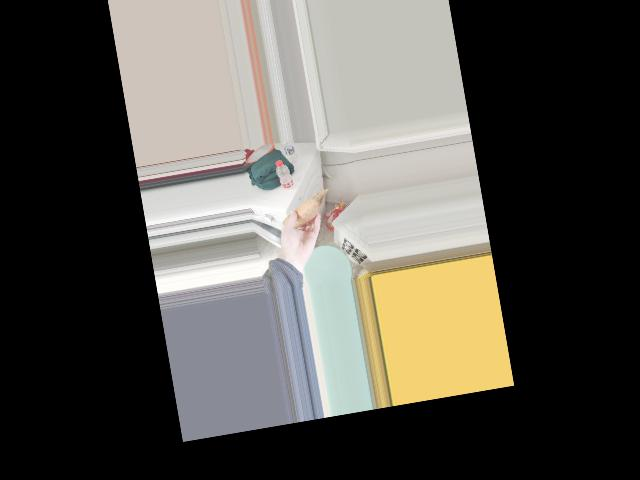sweet_potato: (284, 197, 321, 233)
